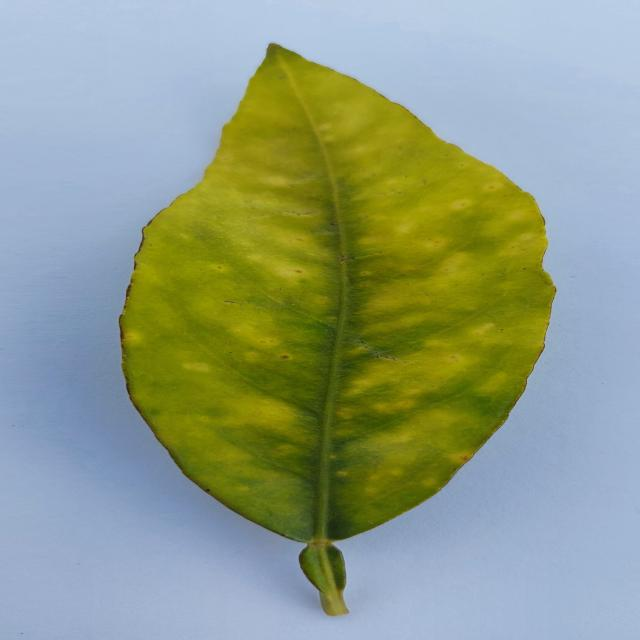greening: (121, 44, 553, 615)
